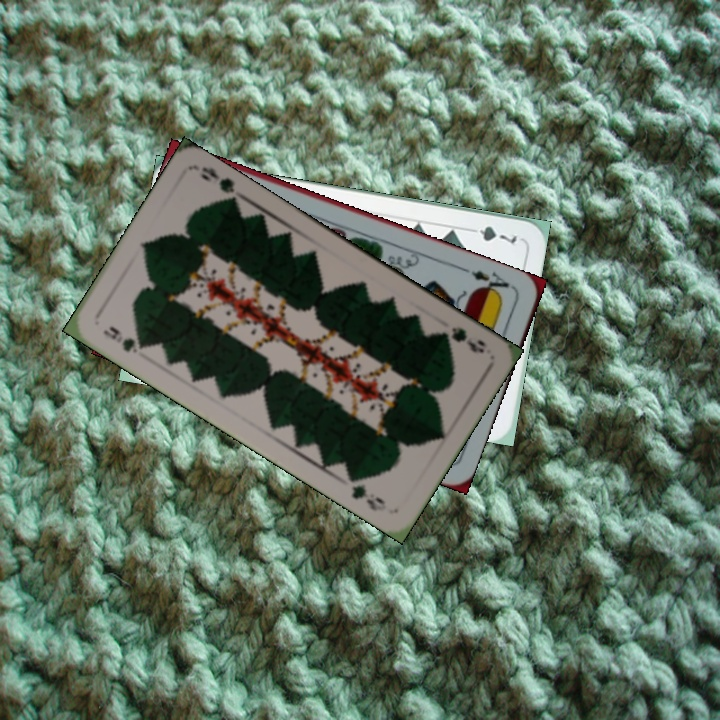EA: (459, 264, 516, 299)
G7: (463, 222, 520, 246)
G9: (433, 322, 488, 356), (99, 322, 151, 356)
